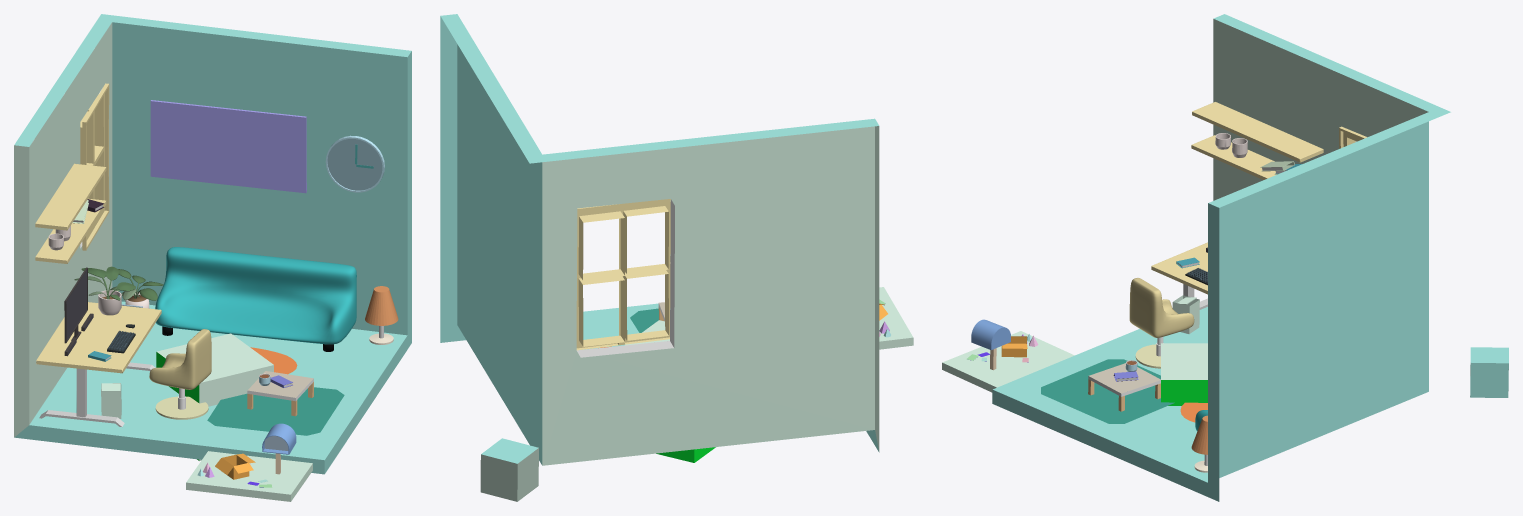
File: finalroomV8.glb
The picture shows the model from 3 angles, left to right: view 1: azimuth 30°, elevation 25°; view 2: azimuth 150°, elevation 25°; view 3: azimuth 270°, elevation 25°; orthographic projection. The views are drawn at different scales.
Visible parts, largest first — view 1: body, sofa, selves, flooritems, Desks, Cube, minifloor, clock, chair, tabletops, Computer, mailbox (+1 smaller); view 2: body, Cube.001, minifloor, Cube; view 3: body, flooritems, selves, minifloor, Cube, sofa, chair, Cube.001, Desks, mailbox, letters.
Boxes of the visible parts, left/top/right/bottom form: body: left=14, top=14, right=411, bottom=474; sofa: left=110, top=247, right=398, bottom=416; selves: left=35, top=100, right=306, bottom=263; flooritems: left=101, top=347, right=344, bottom=435; Desks: left=36, top=302, right=161, bottom=426; Cube: left=156, top=333, right=273, bottom=461; minifloor: left=186, top=451, right=312, bottom=501; clock: left=325, top=135, right=384, bottom=192; chair: left=149, top=329, right=211, bottom=389; tabletops: left=64, top=266, right=135, bottom=361; Computer: left=64, top=267, right=87, bottom=343; mailbox: left=262, top=423, right=296, bottom=474; body: left=440, top=14, right=879, bottom=465; Cube.001: left=480, top=438, right=538, bottom=501; minifloor: left=879, top=287, right=913, bottom=349; Cube: left=624, top=320, right=715, bottom=462; body: left=992, top=14, right=1450, bottom=501; flooritems: left=1041, top=295, right=1207, bottom=423; selves: left=1191, top=102, right=1323, bottom=179; minifloor: left=942, top=331, right=1074, bottom=392; Cube: left=1161, top=343, right=1207, bottom=405; sofa: left=1088, top=360, right=1207, bottom=472; chair: left=1129, top=278, right=1194, bottom=337; Cube.001: left=1470, top=347, right=1508, bottom=397; Desks: left=1151, top=242, right=1207, bottom=309; mailbox: left=971, top=319, right=1010, bottom=370; letters: left=966, top=336, right=1028, bottom=362.
Size of the model in its own units: 10.59 by 8.46 by 13.08.
